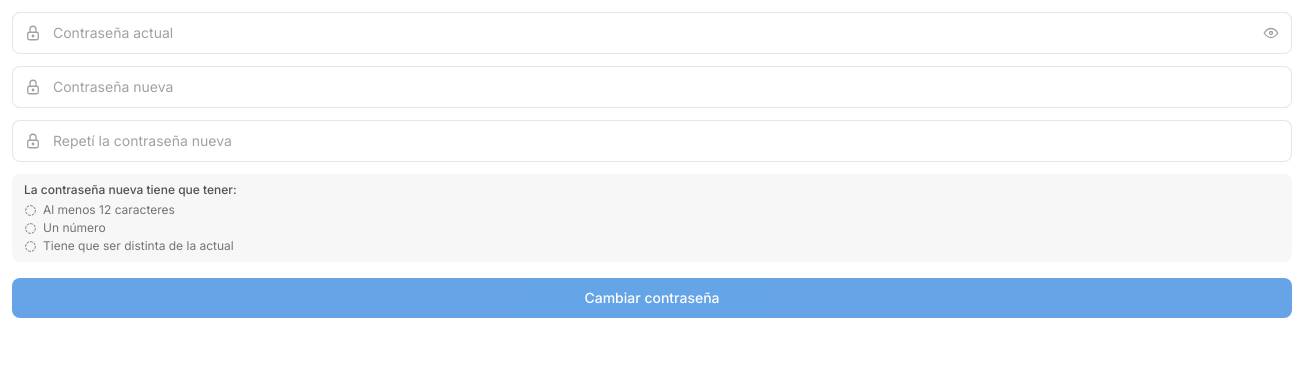
Test: ChangePasswordForm › una contraseña actual incorrecta muestra el error y NO cierra la sesión
The width and height of the screenshot is (1304, 383).
Step 1. Type "mal-escrita" into the password field labelled "Contraseña actual" → (652,33), box [12,12,1292,54]
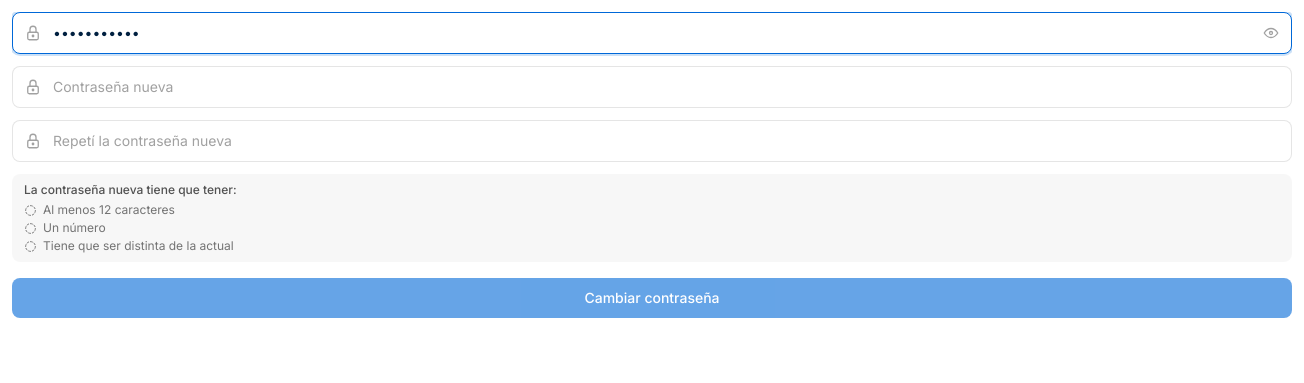
Step 2. Type "una clave nueva 2026" into the password field labelled "Contraseña nueva" → (652,87), box [12,66,1292,108]
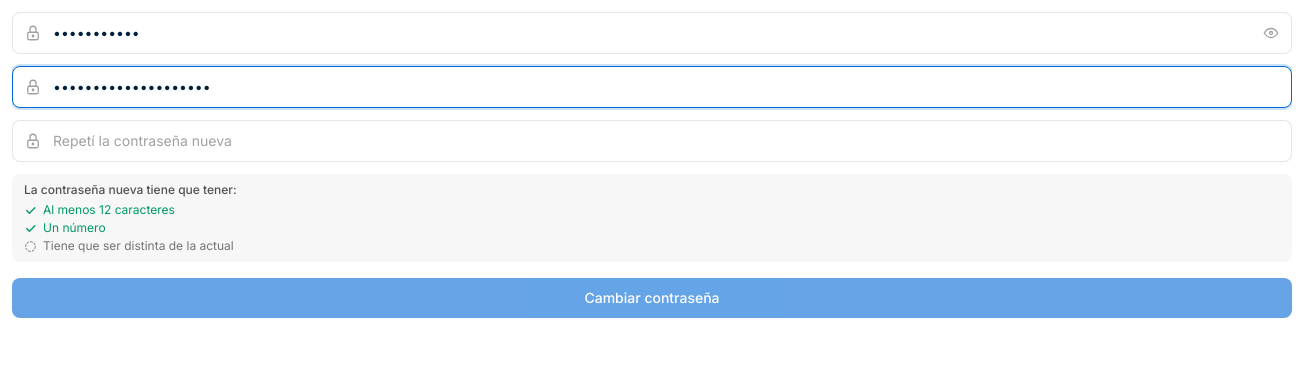
Step 3. Type "una clave nueva 2026" into the password field labelled "Repetí la contraseña nueva" → (652,141), box [12,120,1292,162]
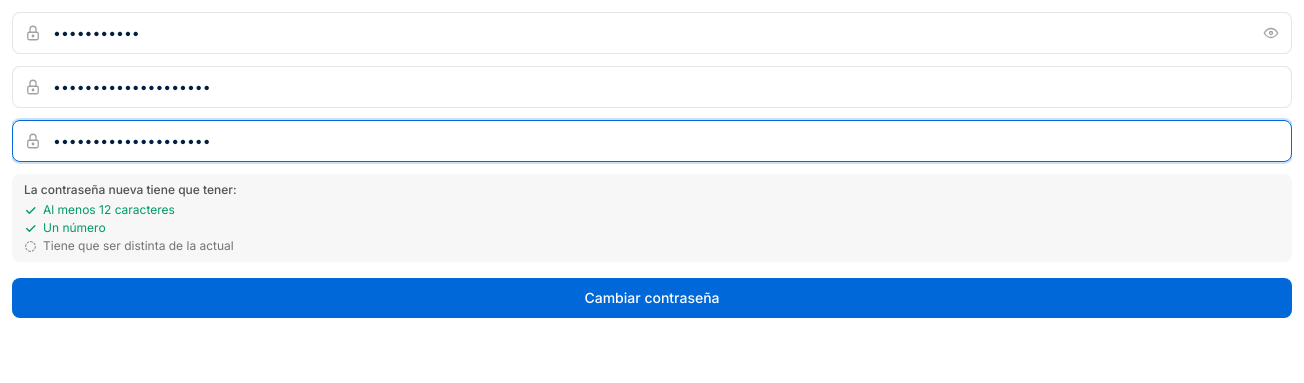
Step 4. Click the button "Cambiar contraseña" → (652,298), box [12,278,1292,318]
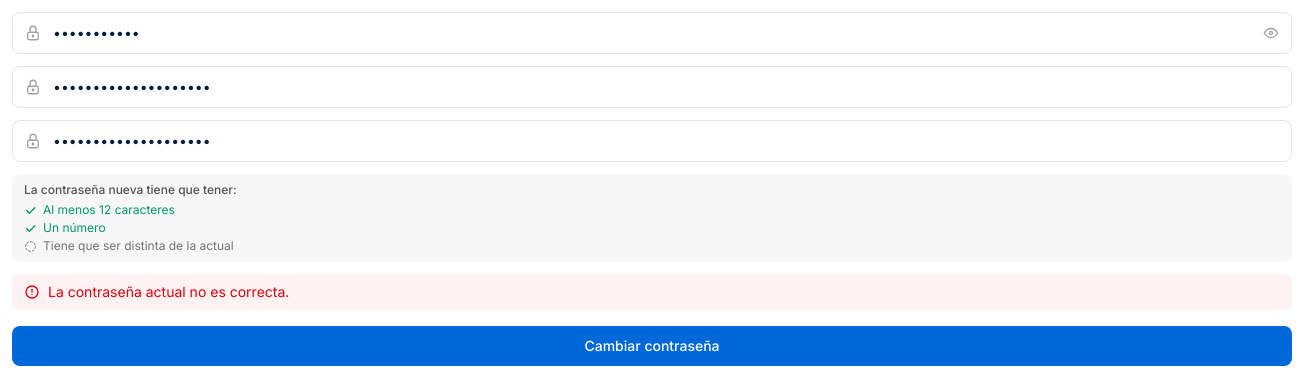
Check: the message reads "La contraseña actual no es correcta.", box [48,283,289,300]
